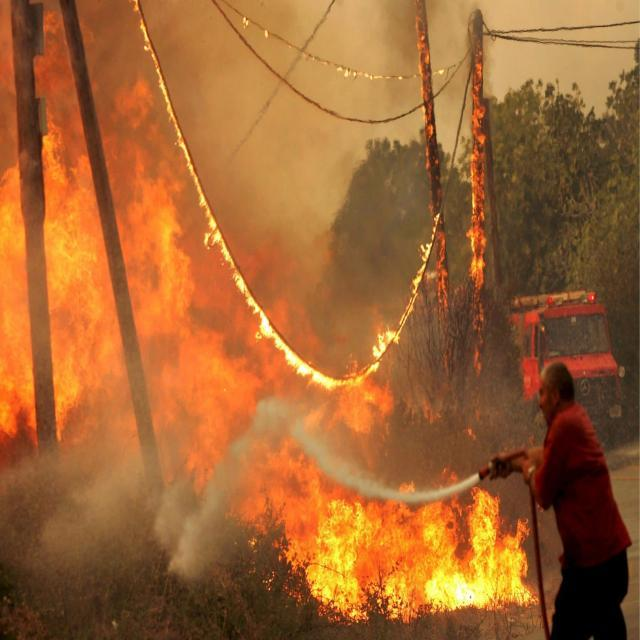Fire: (0, 0, 412, 542), (277, 470, 550, 622), (408, 0, 456, 352), (460, 9, 499, 384)
Smoke: (82, 0, 410, 330), (377, 0, 454, 100), (463, 8, 501, 76)
